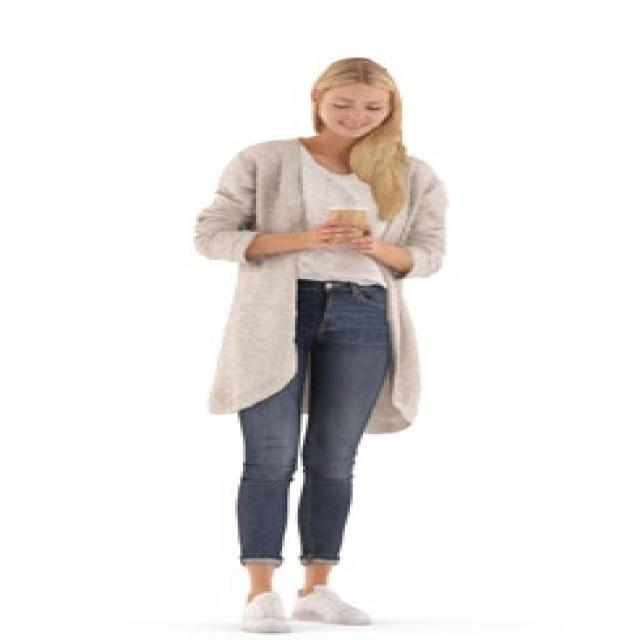standing: (189, 54, 458, 638)
